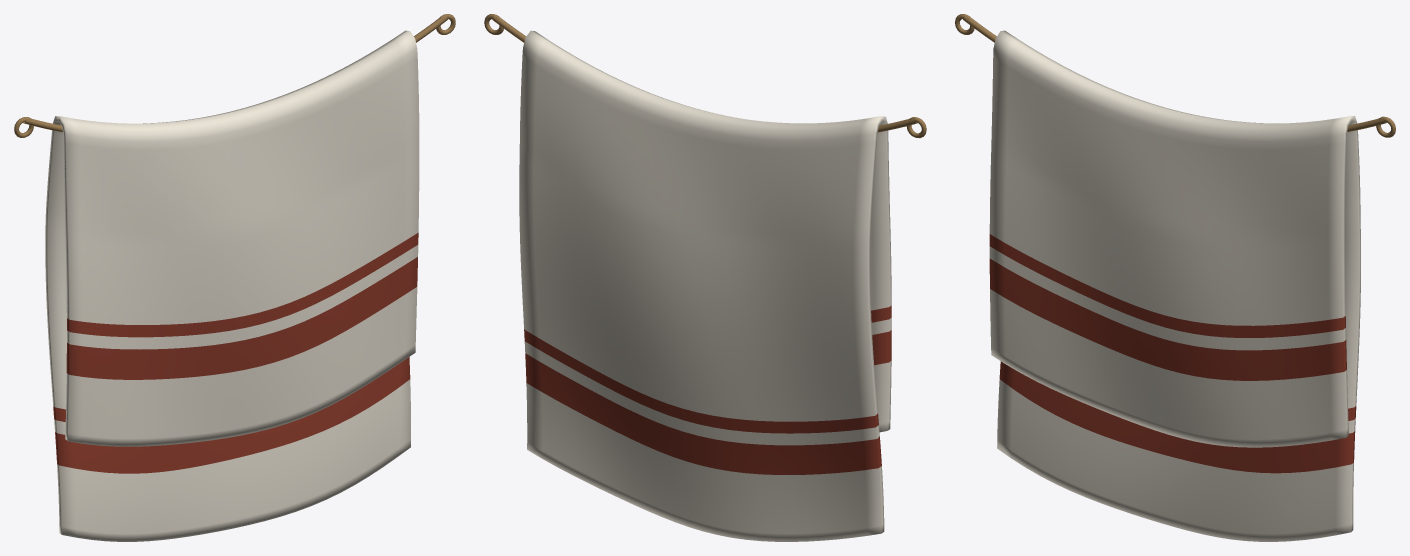
Rendered from loft_towel.glb.
3 renders of one model, left to right at view 1: azimuth 30°, elevation 25°; view 2: azimuth 150°, elevation 25°; view 3: azimuth 330°, elevation 25°, orthographic.
Visible parts, largest first — view 1: towel, towel_cord; view 2: towel, towel_cord; view 3: towel, towel_cord.
Boxes of the visible parts, bbox=[...] form: towel: bbox=[45, 30, 419, 541]; towel_cord: bbox=[23, 14, 447, 132]; towel: bbox=[519, 30, 891, 541]; towel_cord: bbox=[492, 14, 917, 132]; towel: bbox=[989, 30, 1360, 541]; towel_cord: bbox=[963, 15, 1387, 131].
Bounding box in the file's own units: 0.377 × 0.3775 × 0.038.
